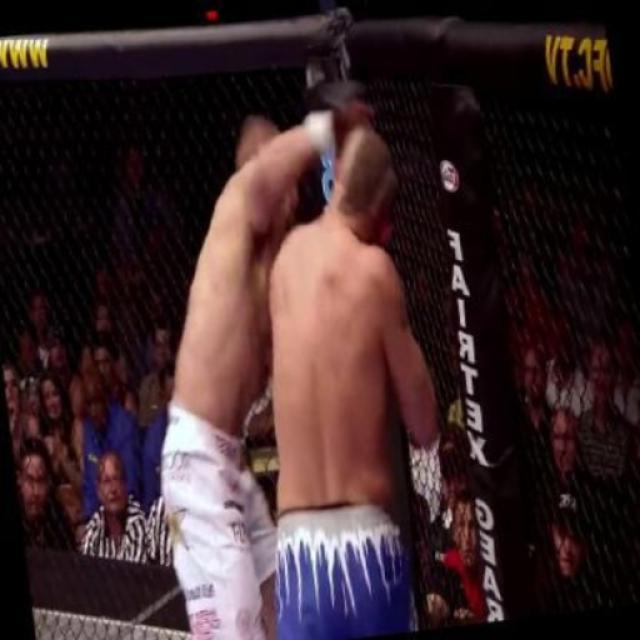violence: (162, 77, 440, 640)
